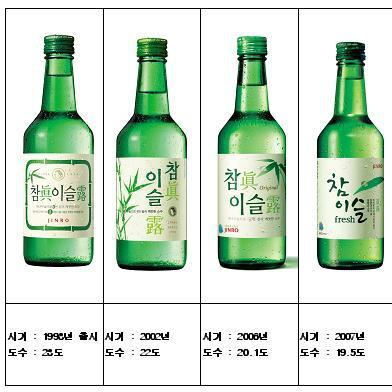soju: (114, 30, 194, 274), (19, 28, 97, 270), (215, 31, 293, 273), (314, 40, 387, 272)
